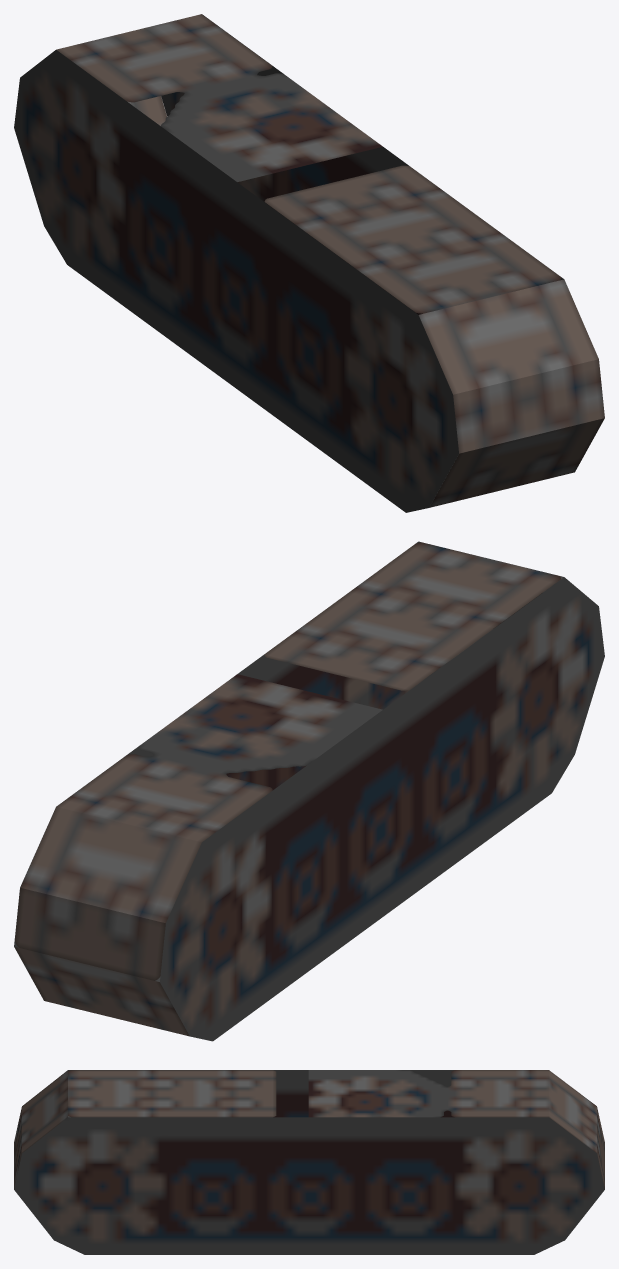
Rendered from right_track.fbx.
3 views of the same model, one above another, from view 1: azimuth 30°, elevation 25°; view 2: azimuth 150°, elevation 25°; view 3: azimuth 270°, elevation 25° (orthographic). The views are drawn at different scales.
Visible parts, largest first — view 1: right_track; view 2: right_track; view 3: right_track.
Part boxes in pixels (left/top/right/bottom): right_track: left=14, top=14, right=604, bottom=512; right_track: left=14, top=541, right=604, bottom=1041; right_track: left=14, top=1070, right=604, bottom=1254.
Bounding box in the file's own units: 87.5 × 119 × 462.
Materials: 2 (2 with a texture image).
